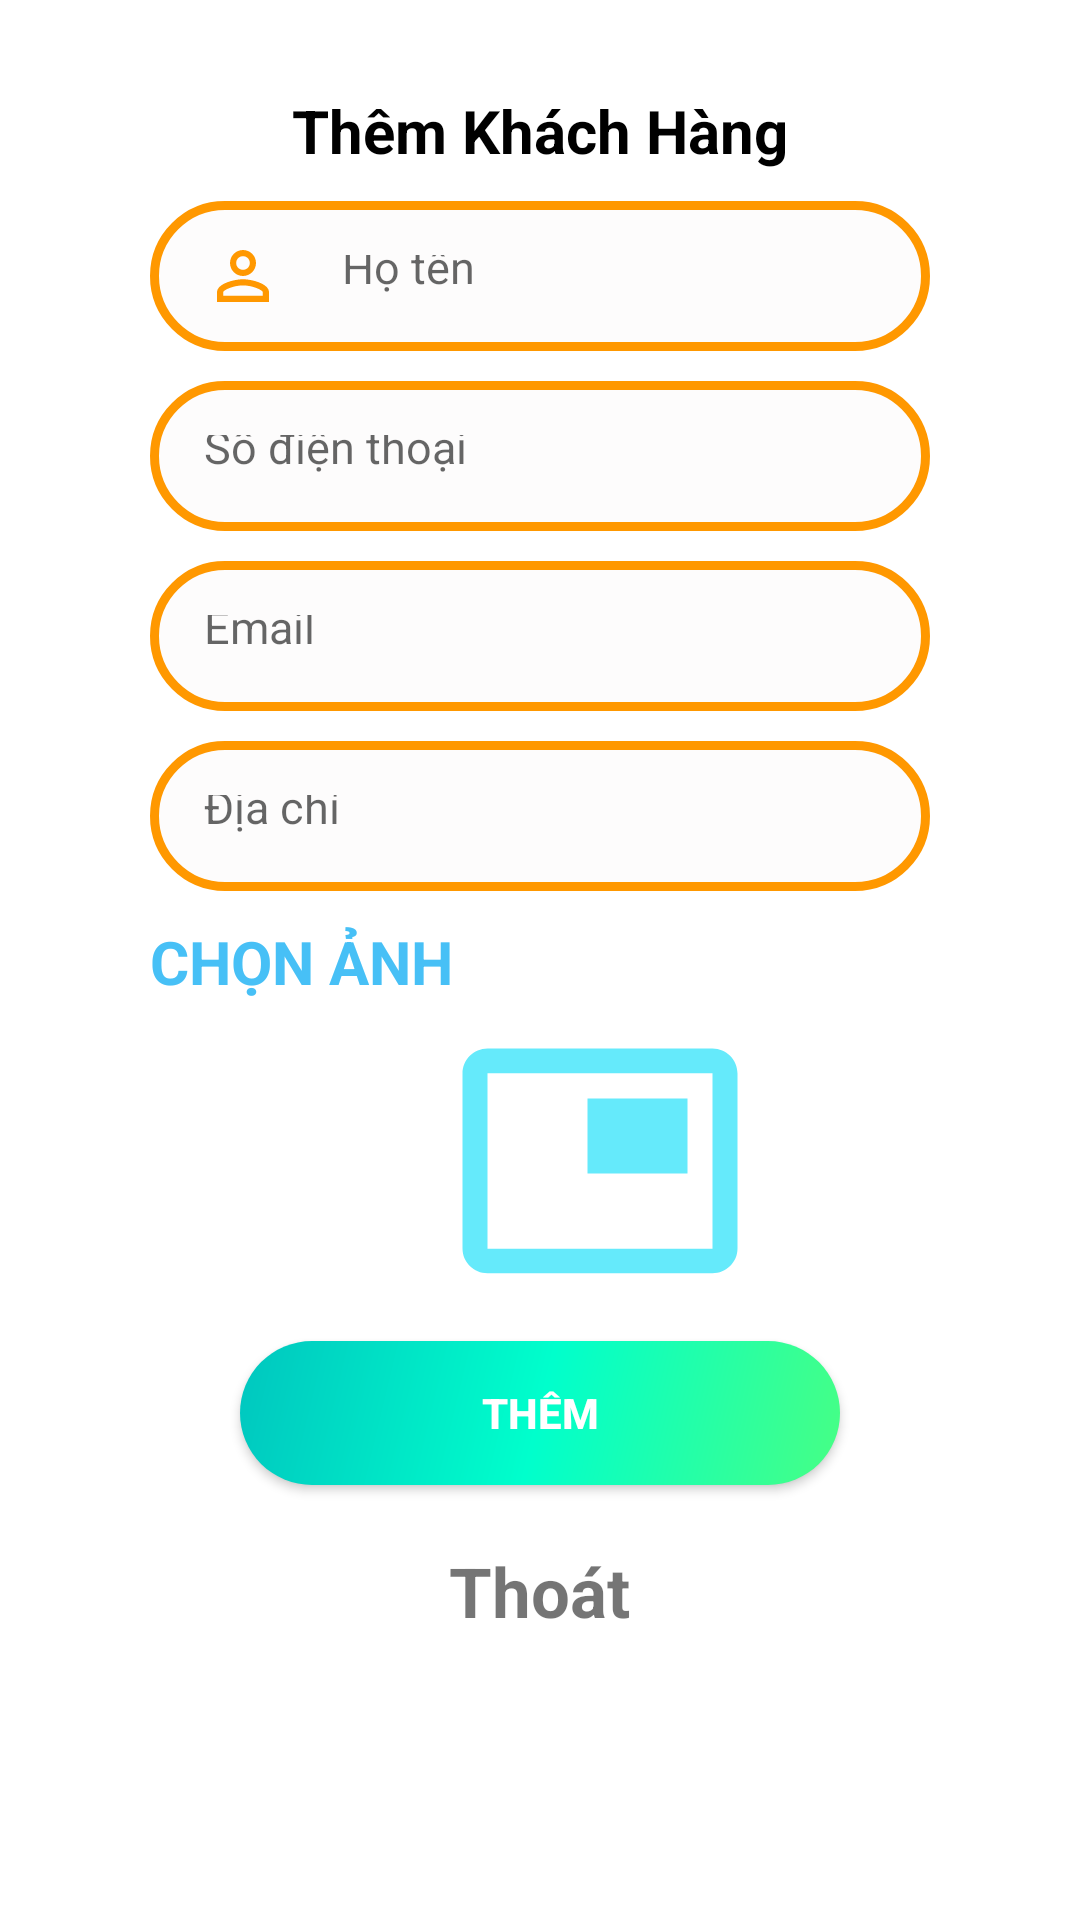

Named icons in this screenshot (1080px×1920px) and their centers, (x=x, y=y):
picture in: (x=600, y=1161)
